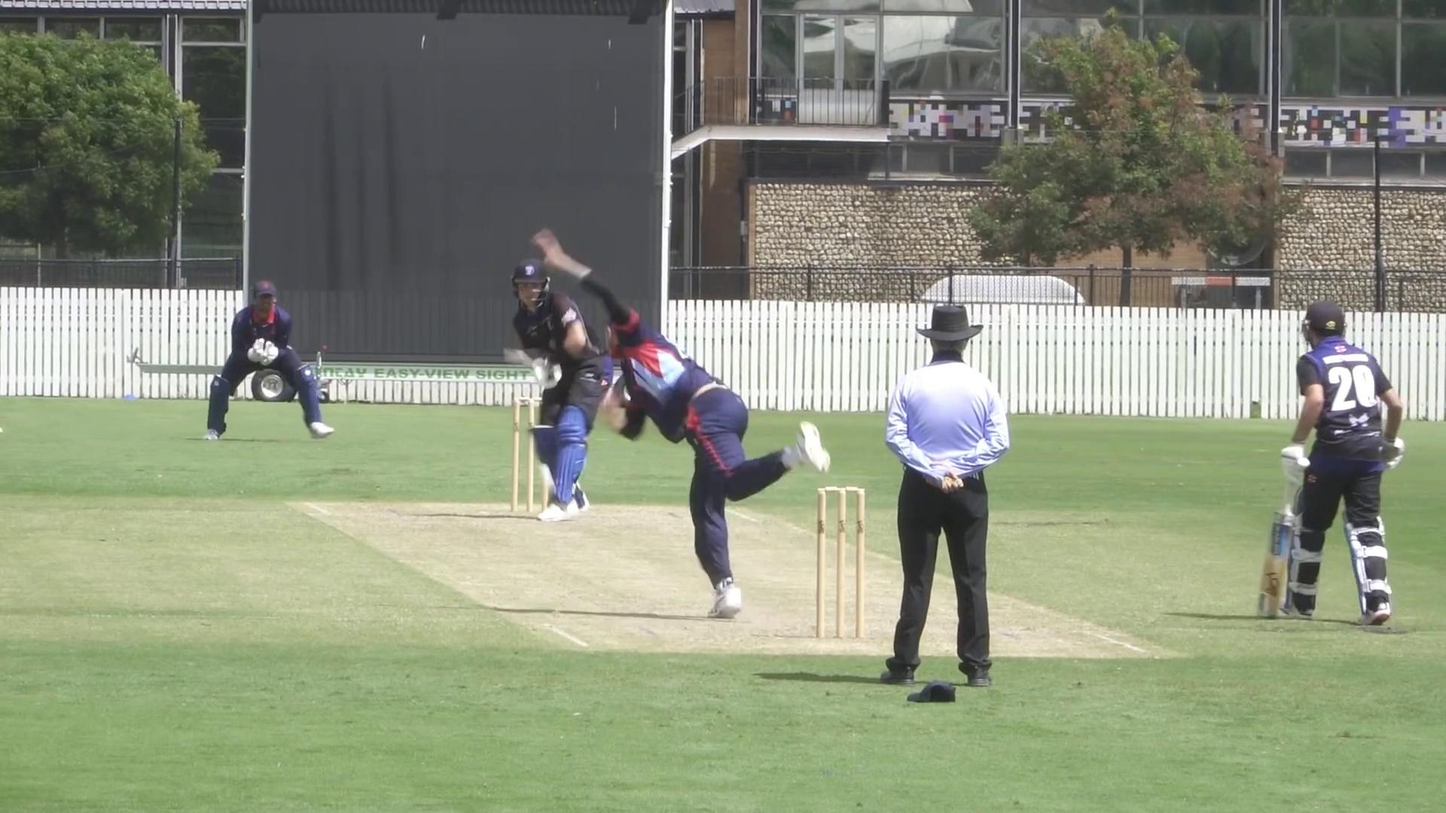ball: (534, 460, 559, 488)
